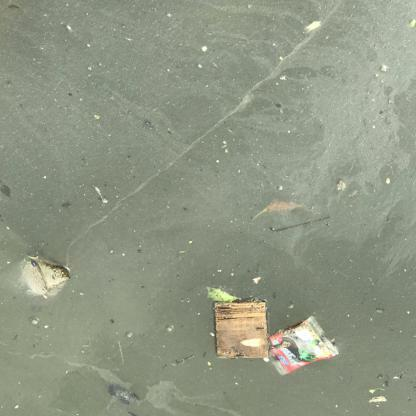Trash: (270, 314, 340, 376), (208, 294, 267, 363)
